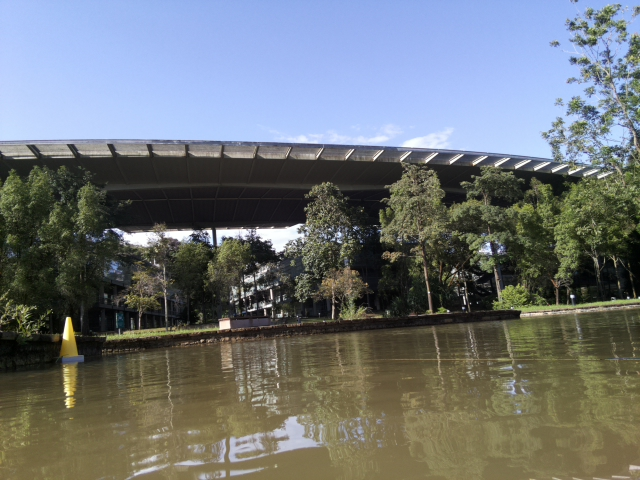checkpoint: (59, 316, 85, 362)
